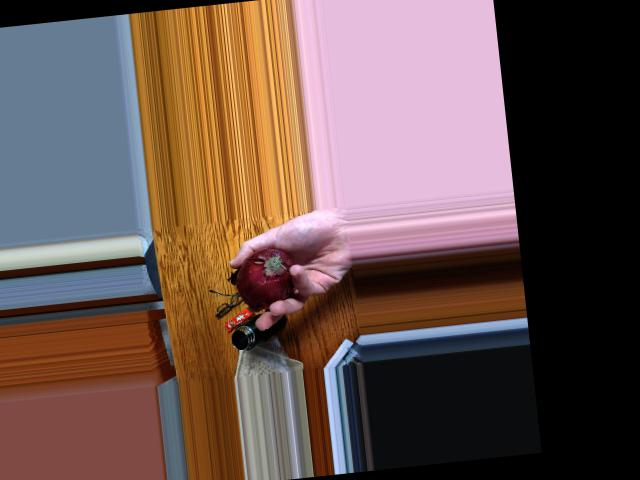onion: (233, 243, 300, 309)
